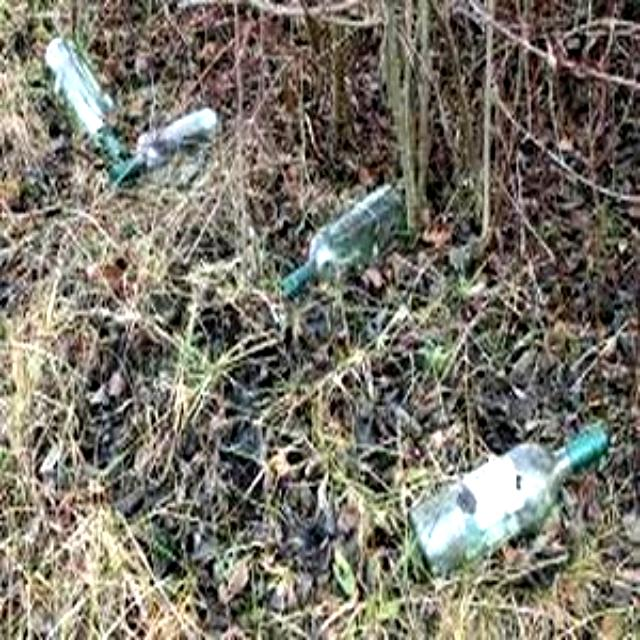Glass: (410, 424, 610, 574), (280, 180, 404, 300), (41, 29, 123, 162)
